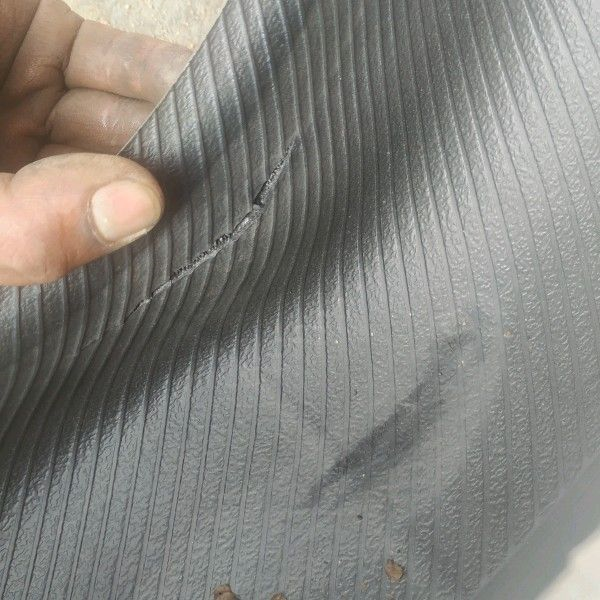cut: (83, 137, 300, 355)
